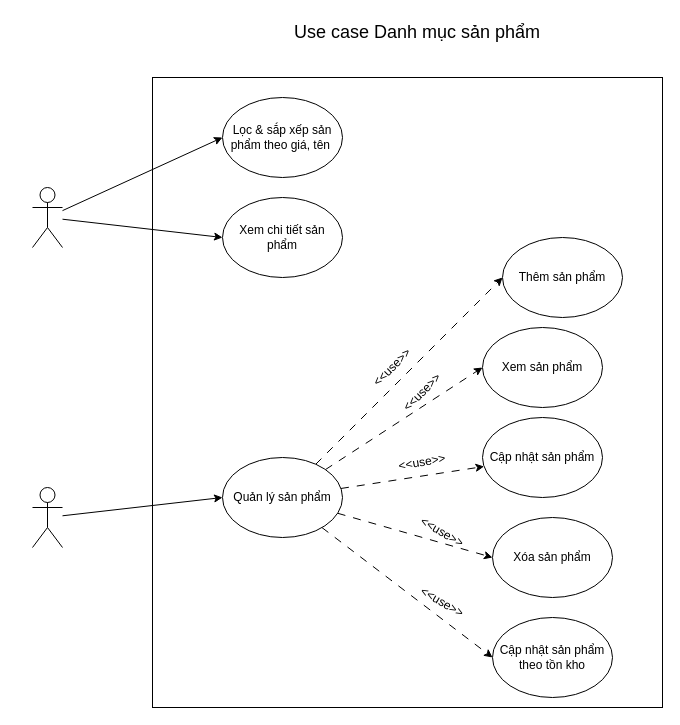
Some shapes in this 680 by 725 pixel diagram are drawn without their labels. Each missing label, with the box of its shape:
Admin: (32, 486, 62, 548)
Người mua: (32, 186, 62, 248)
